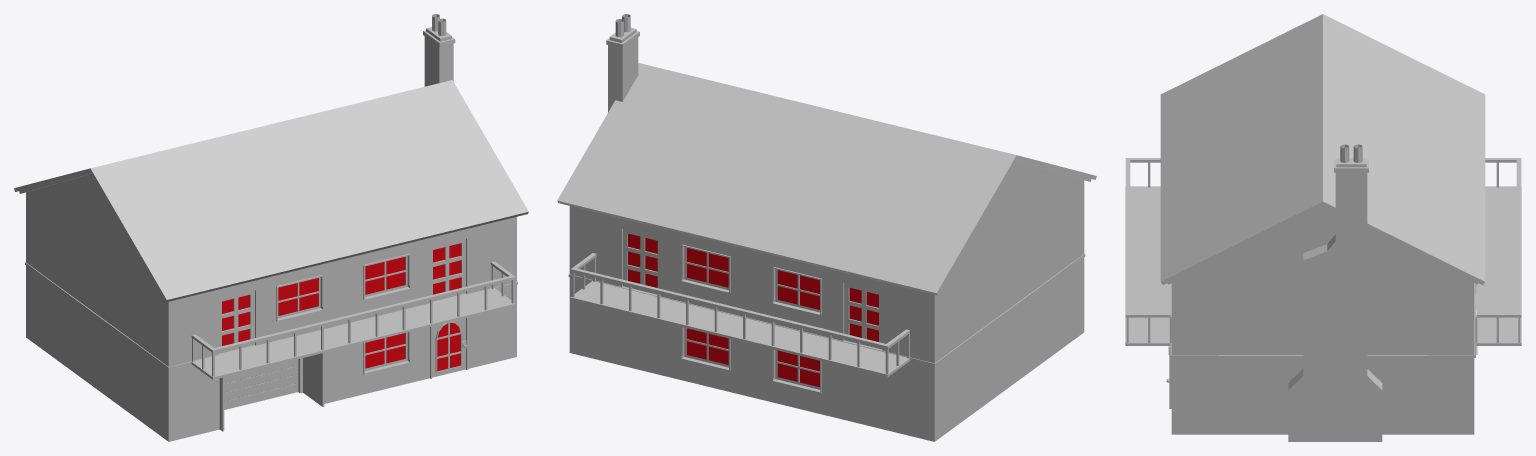
The model's file is SM_ordinary_houses_03.gltf.
3 renders of one model, left to right at view 1: azimuth 30°, elevation 25°; view 2: azimuth 150°, elevation 25°; view 3: azimuth 270°, elevation 25°, orthographic. The views are drawn at different scales.
Parts seen in each view (by area): view 1: ordinary_houses_03; view 2: ordinary_houses_03; view 3: ordinary_houses_03.
Part boxes in pixels (<box>): ordinary_houses_03: <box>14,14,528,441</box>; ordinary_houses_03: <box>557,14,1096,441</box>; ordinary_houses_03: <box>1125,14,1521,441</box>.
Size of the model in its own units: 16 by 11.38 by 14.
